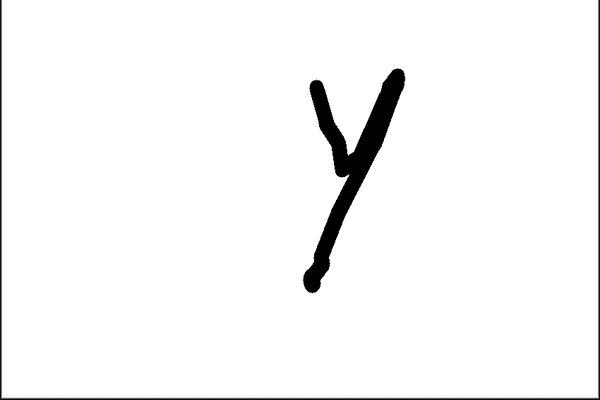Y: (297, 60, 418, 308)
